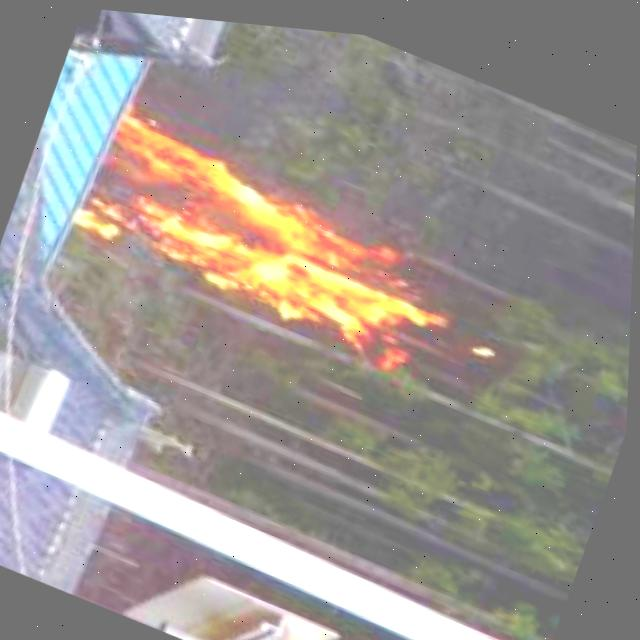Smoke: (66, 104, 481, 386)
